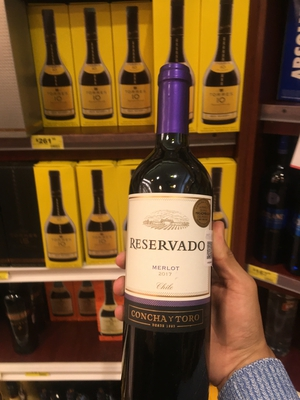reservado merlot: (102, 74, 226, 400)
